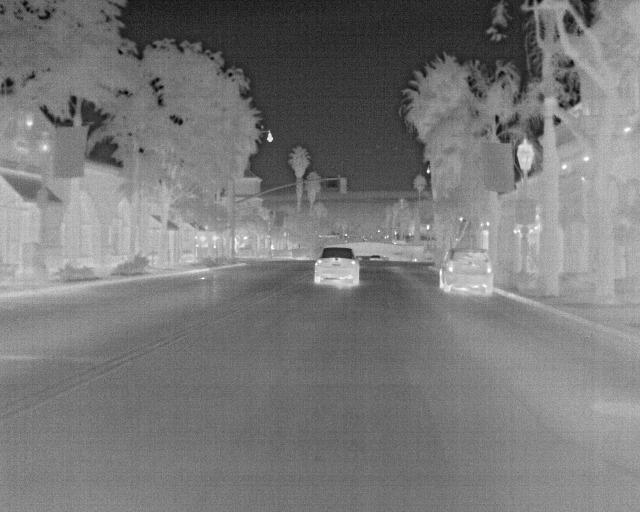car: (437, 246, 495, 296), (310, 244, 360, 289)
